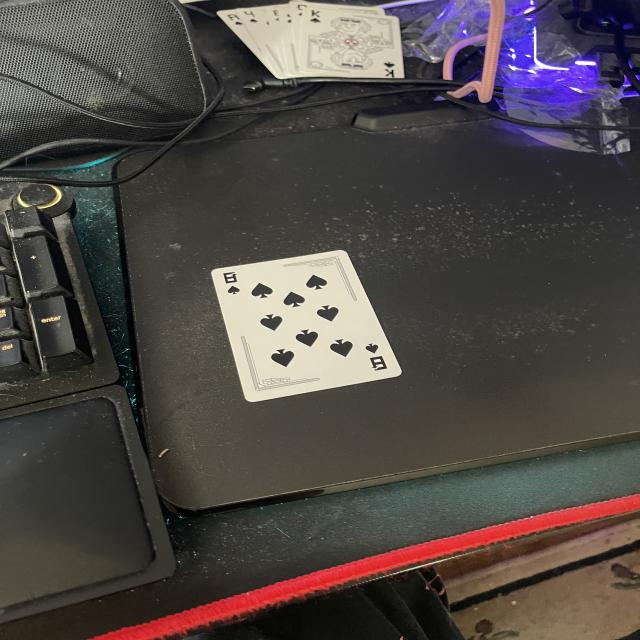8 of spades: (214, 251, 399, 401)
King of spades: (303, 9, 404, 78)
